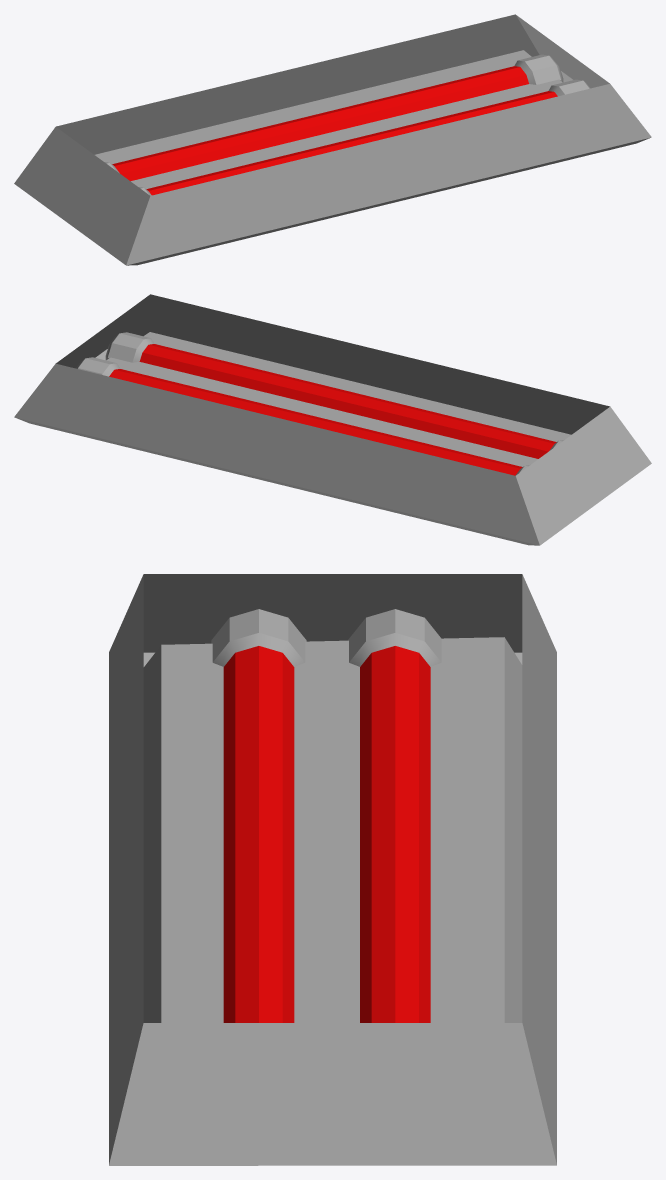
Rendered from StripLight.fbx.
3 views of the same model, one above another, from view 1: azimuth 30°, elevation 25°; view 2: azimuth 150°, elevation 25°; view 3: azimuth 270°, elevation 25° (orthographic). The views are drawn at different scales.
Visible parts, largest first — view 1: Strip_light; view 2: Strip_light; view 3: Strip_light.
Part boxes in pixels (x1=…): Strip_light: x1=14, y1=14, x2=651, y2=265; Strip_light: x1=14, y1=294, x2=651, y2=545; Strip_light: x1=109, y1=574, x2=556, y2=1165.
Size of the model in its own units: 157 by 18.2 by 57.97.
